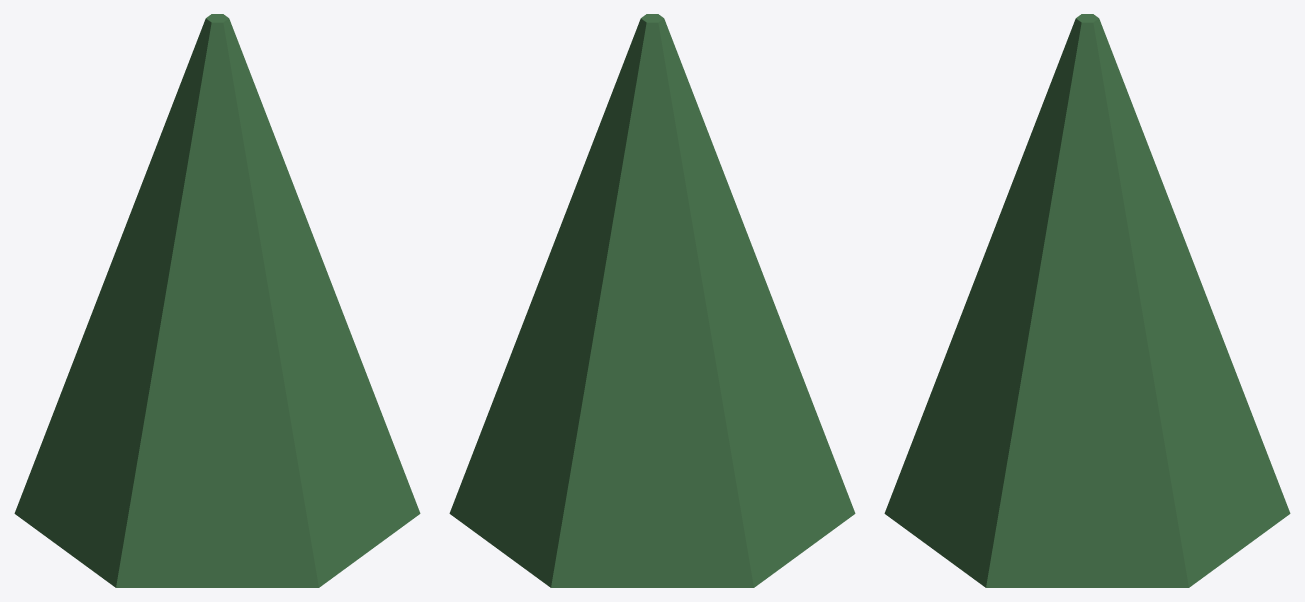
File: tree_pine_lod.glb
3 views of the same model, side by side, from view 1: azimuth 30°, elevation 25°; view 2: azimuth 150°, elevation 25°; view 3: azimuth 270°, elevation 25° (orthographic).
Parts seen in each view (by area): view 1: Tree.001; view 2: Tree.001; view 3: Tree.001.
Part boxes in pixels (box(x1,y1,x2,y2)): Tree.001: box(14, 14, 420, 587); Tree.001: box(449, 14, 855, 587); Tree.001: box(884, 14, 1290, 587).
Bounding box in the file's own units: 4.5 × 7.6 × 5.2.
